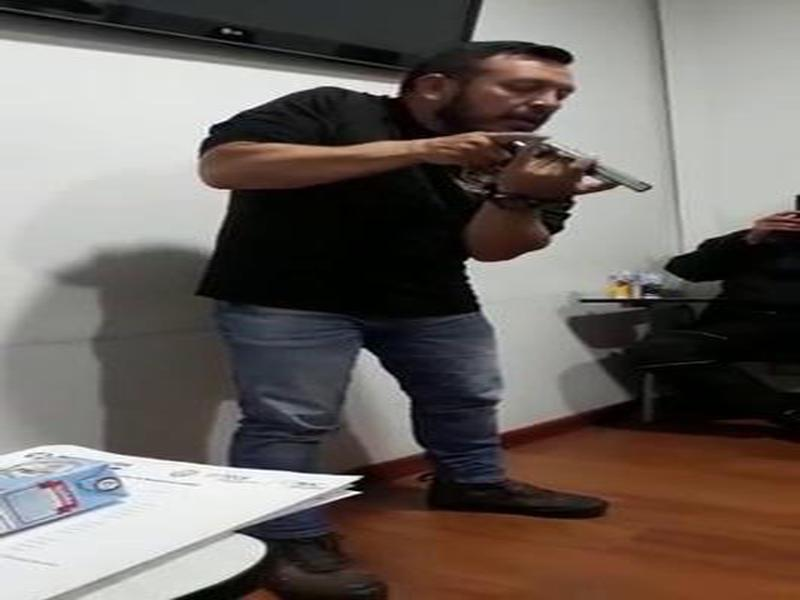Revolver: (461, 113, 667, 223)
